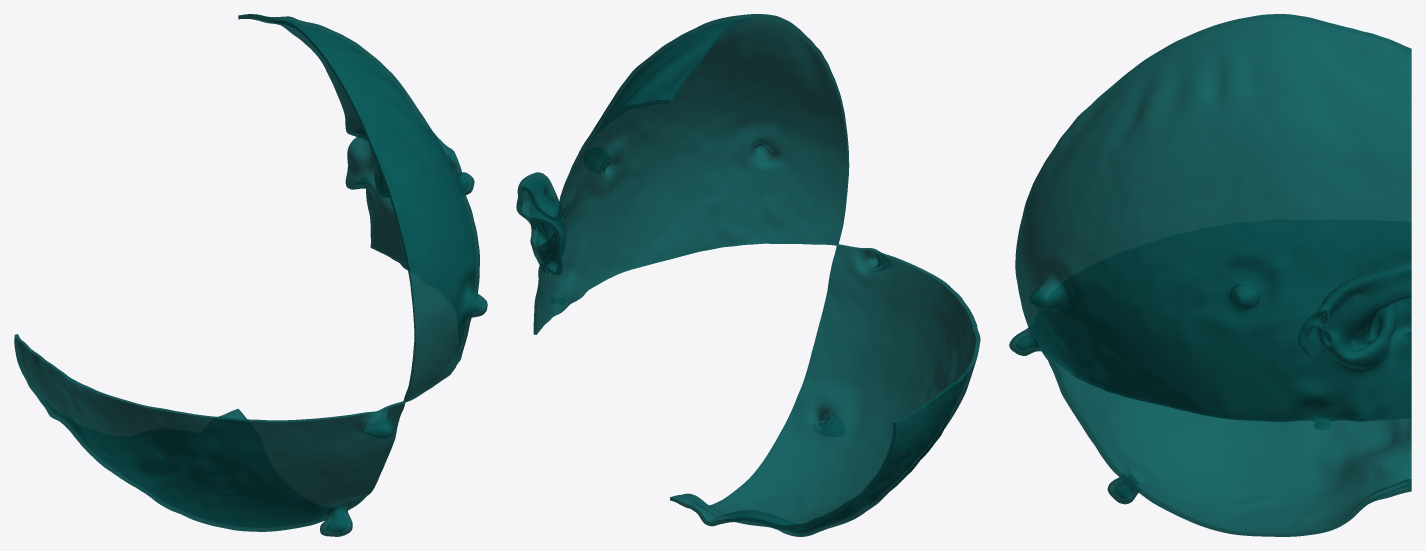
The model's file is Scalp_quadrants.obj.
3 renders of one model, left to right at view 1: azimuth 30°, elevation 25°; view 2: azimuth 150°, elevation 25°; view 3: azimuth 270°, elevation 25°, orthographic. The views are drawn at different scales.
Visible parts, largest first — view 1: grp1; view 2: grp1; view 3: grp1.
Boxes of the visible parts, <box> form: grp1: <box>14,14,487,536</box>; grp1: <box>516,14,980,536</box>; grp1: <box>1009,14,1411,536</box>.
Size of the model in its own units: 175 by 195 by 135.
